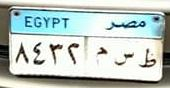2: (67, 42, 80, 67)
3: (48, 41, 63, 68)
4: (32, 40, 46, 67)
8: (12, 40, 29, 67)
Thaa: (138, 46, 157, 72)
meem: (93, 45, 108, 68)
seen: (112, 47, 135, 69)
